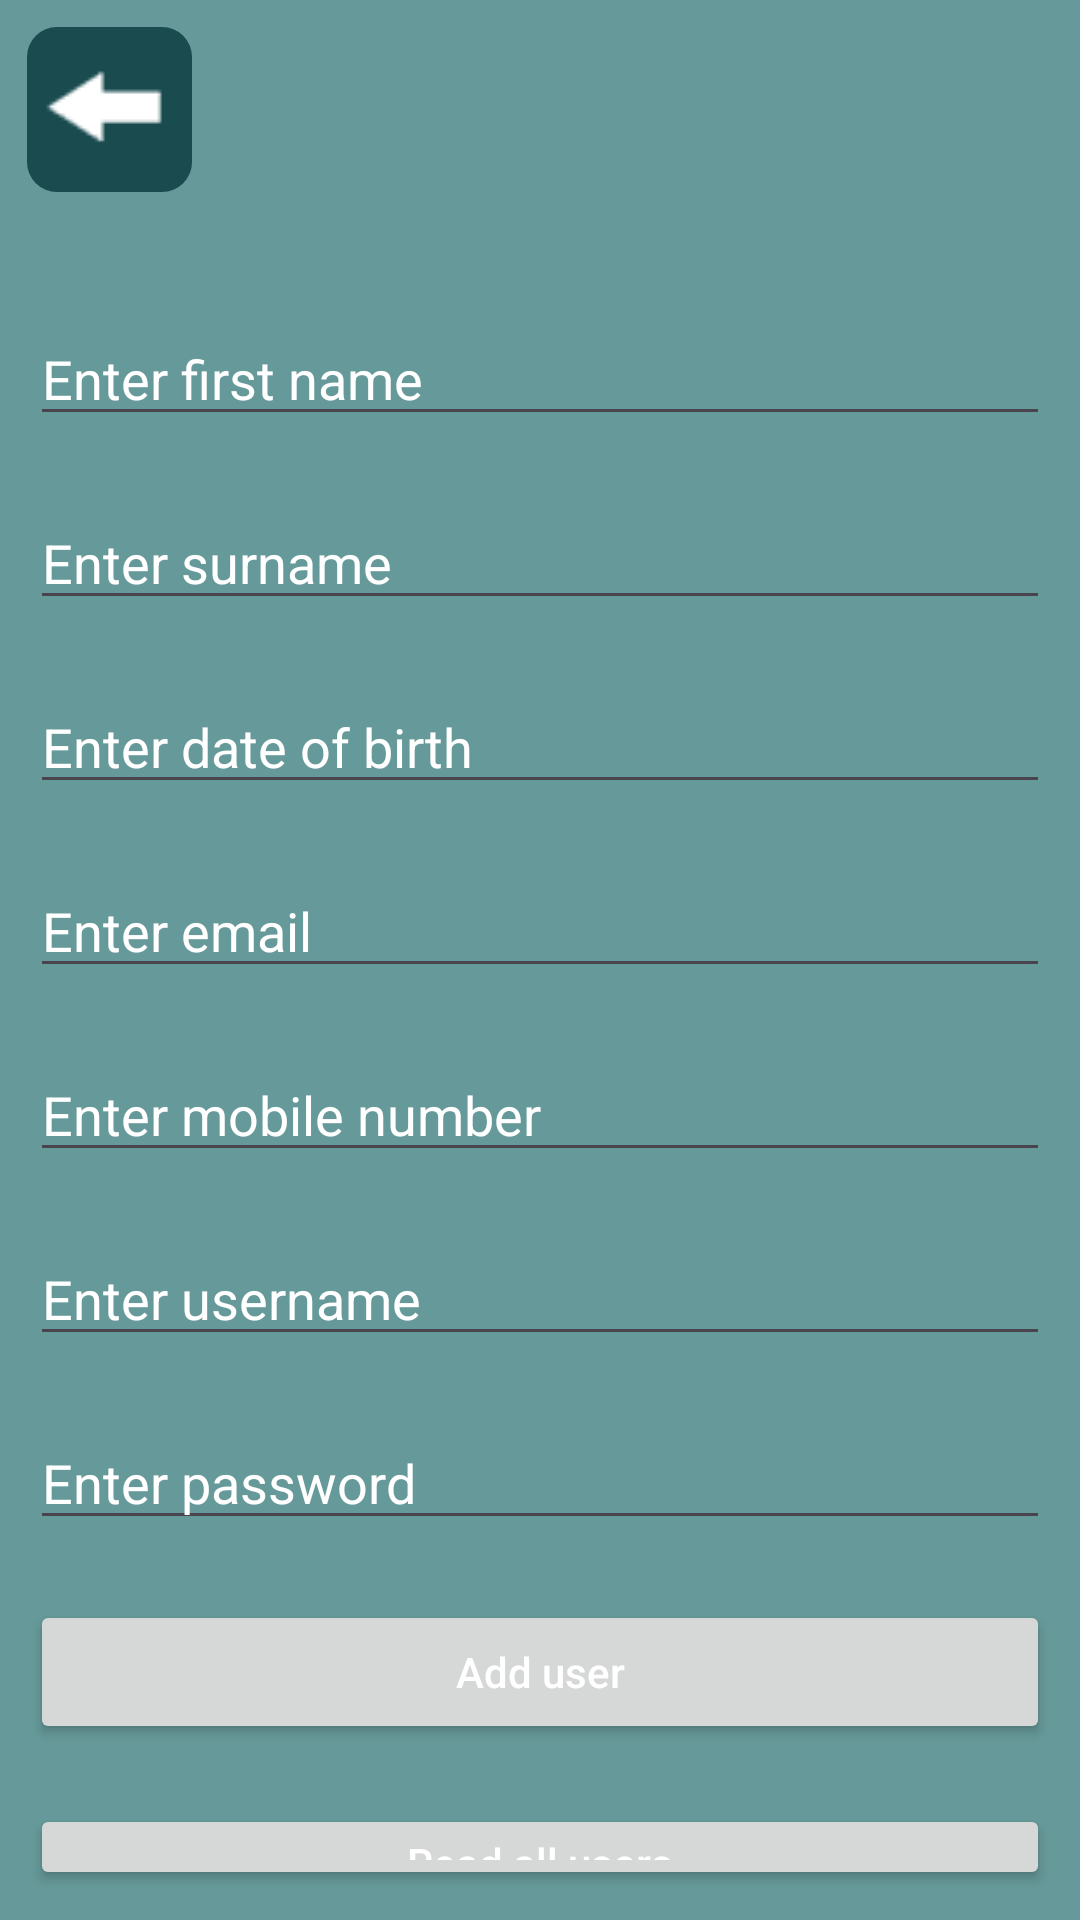

Icon click points for this 1080x1920 phone screenshot, format [x,y]:
go back: [109,109]
